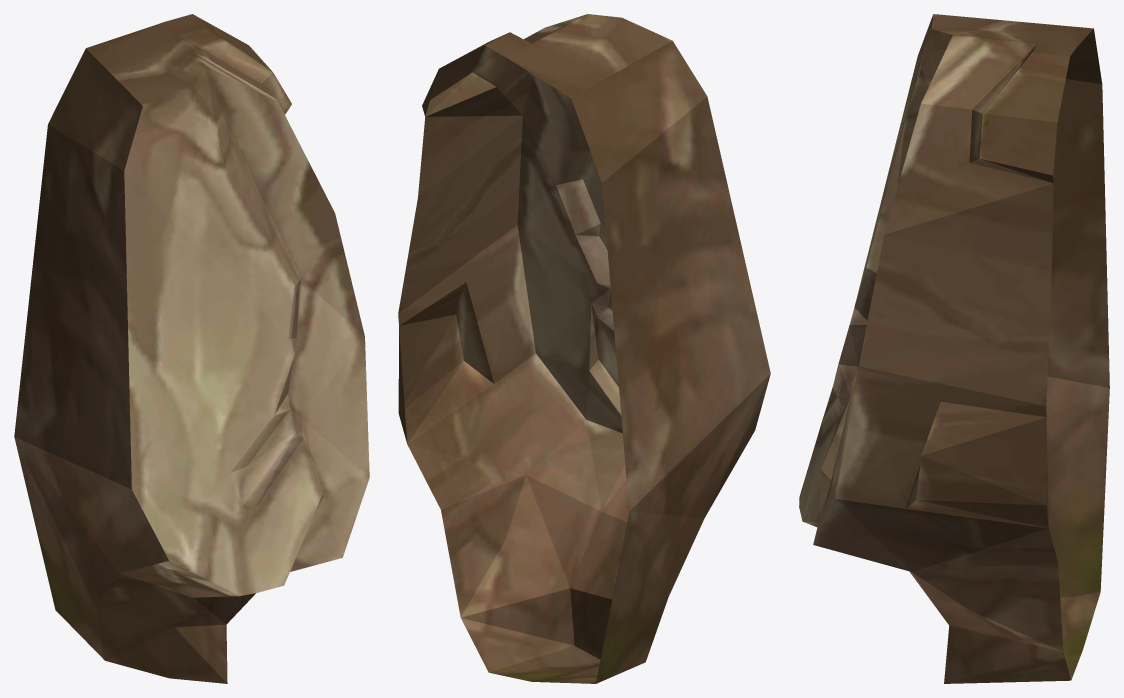
Rendered from caodi_dashitou_03.fbx.
The picture shows the model from 3 angles, left to right: view 1: azimuth 30°, elevation 25°; view 2: azimuth 150°, elevation 25°; view 3: azimuth 270°, elevation 25°; orthographic projection. The views are drawn at different scales.
Visible parts, largest first — view 1: caodi_dashitou_03; view 2: caodi_dashitou_03; view 3: caodi_dashitou_03.
Part boxes in pixels (<box>): caodi_dashitou_03: <box>14,14,369,683</box>; caodi_dashitou_03: <box>398,14,770,683</box>; caodi_dashitou_03: <box>799,14,1109,683</box>.
Bounding box in the file's own units: 6.31 × 13.94 × 6.12.
